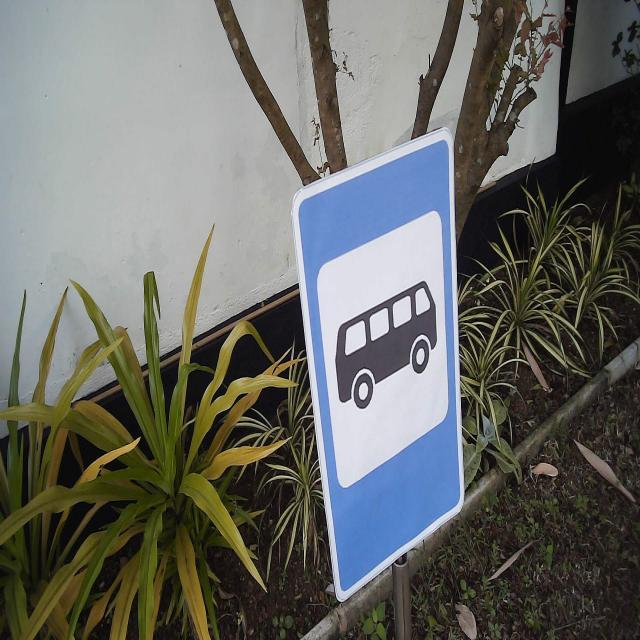bus_stop: (290, 126, 466, 604)
